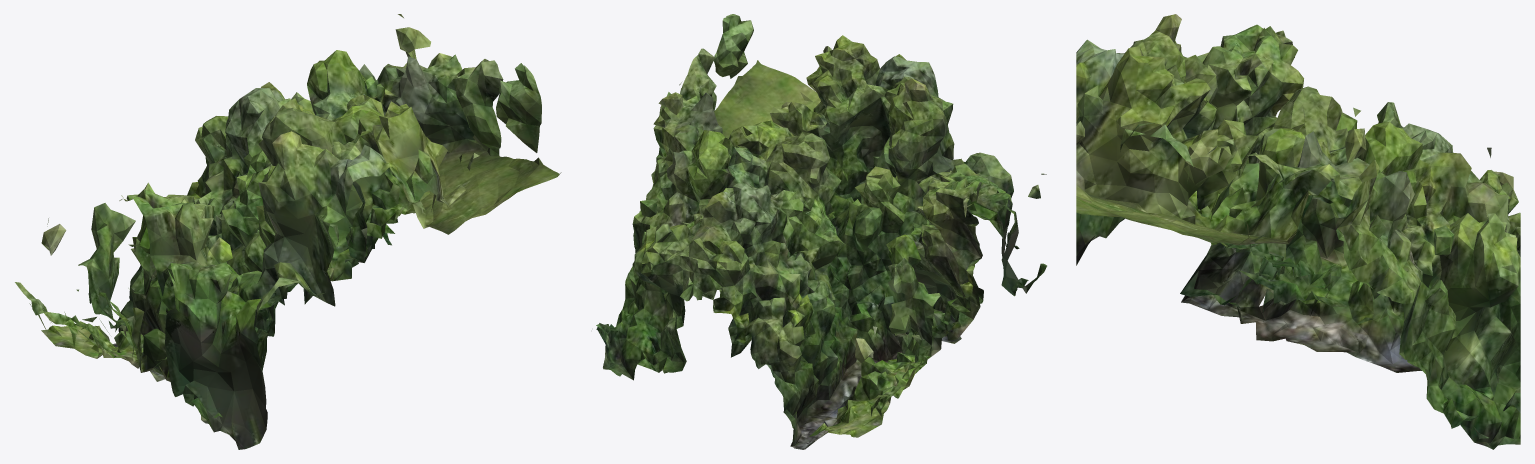
3 views of the same model, side by side, from view 1: azimuth 30°, elevation 25°; view 2: azimuth 150°, elevation 25°; view 3: azimuth 270°, elevation 25° (orthographic). The views are drawn at different scales.
Bounding box in the file's own units: 52.22 × 48.65 × 52.22.
Materials: 8 (8 with a texture image).
